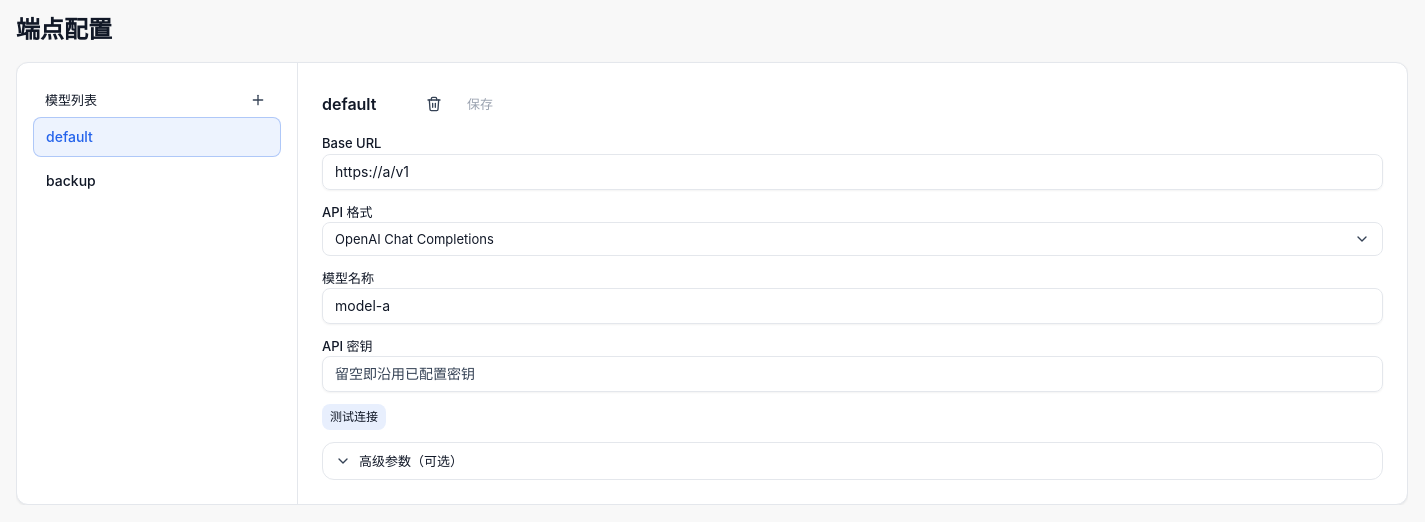
Test: SettingsPage · 连接·端点配置 › 密钥框内嵌尾随钮：有输入才出现，点击切明文与 aria 随态
Expected: the field labelled "Base URL" is shown, [322,154,1383,190]
Type "sk-x" into the password field labelled "API 密钥" at (852, 374), box [322,356,1383,392]
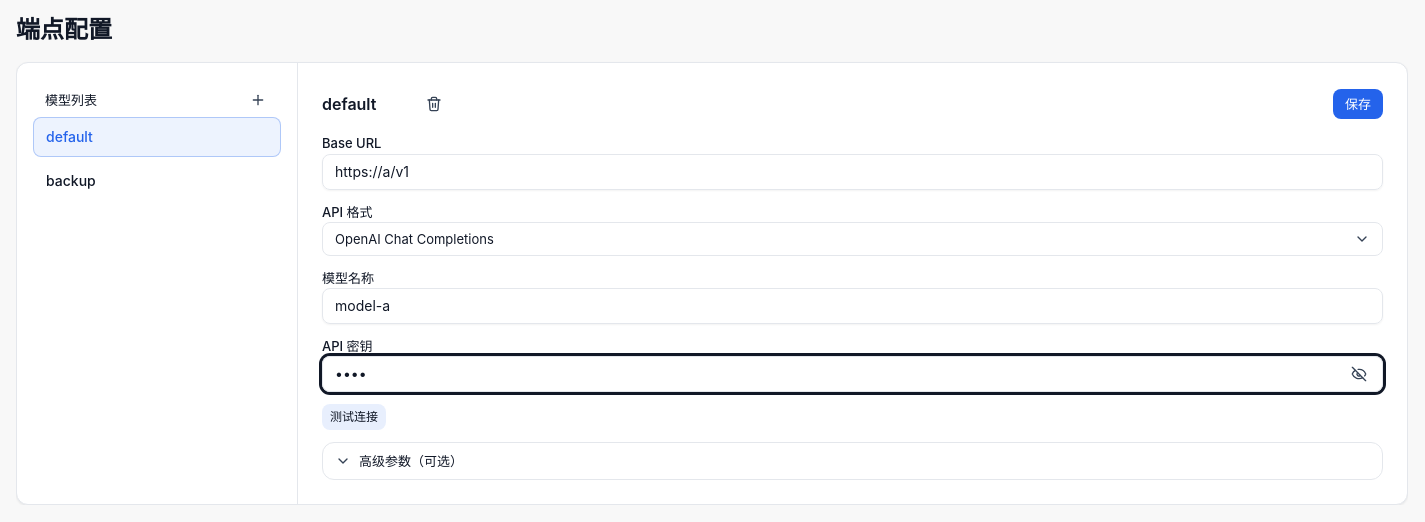
Expected: the button named "显示密钥" is shown
Click the button named "显示密钥" at (1359, 374), box [1347,362,1371,386]
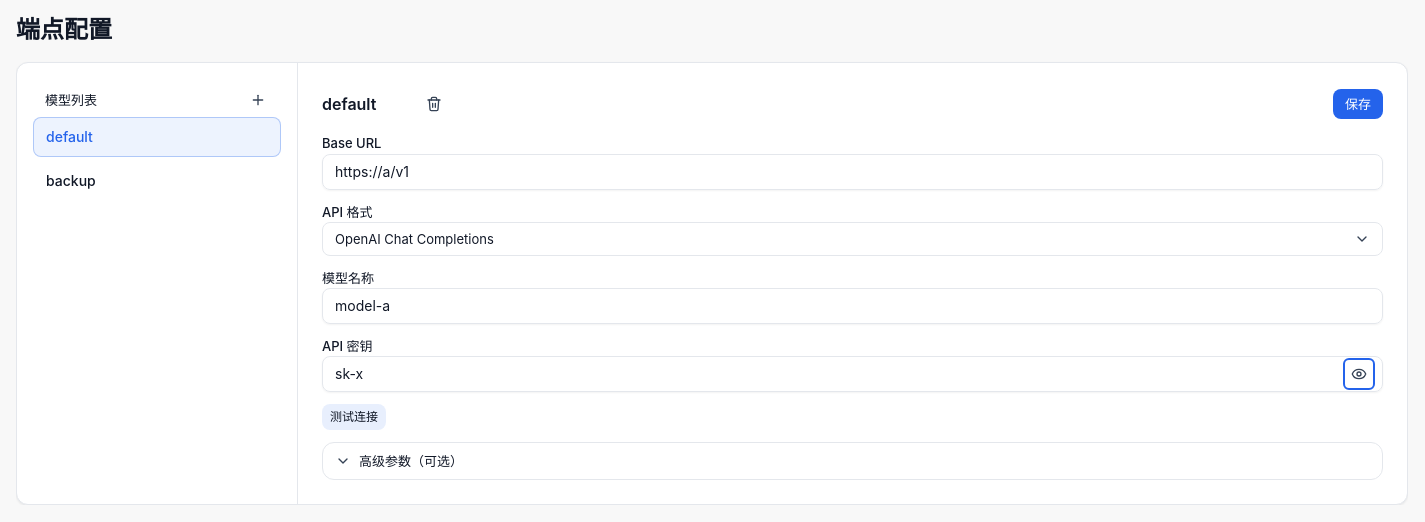
Expected: the field labelled "API 密钥" shows its text, [322,356,1383,392]
Expected: the button named "隐藏密钥" is shown, [1347,362,1371,386]
